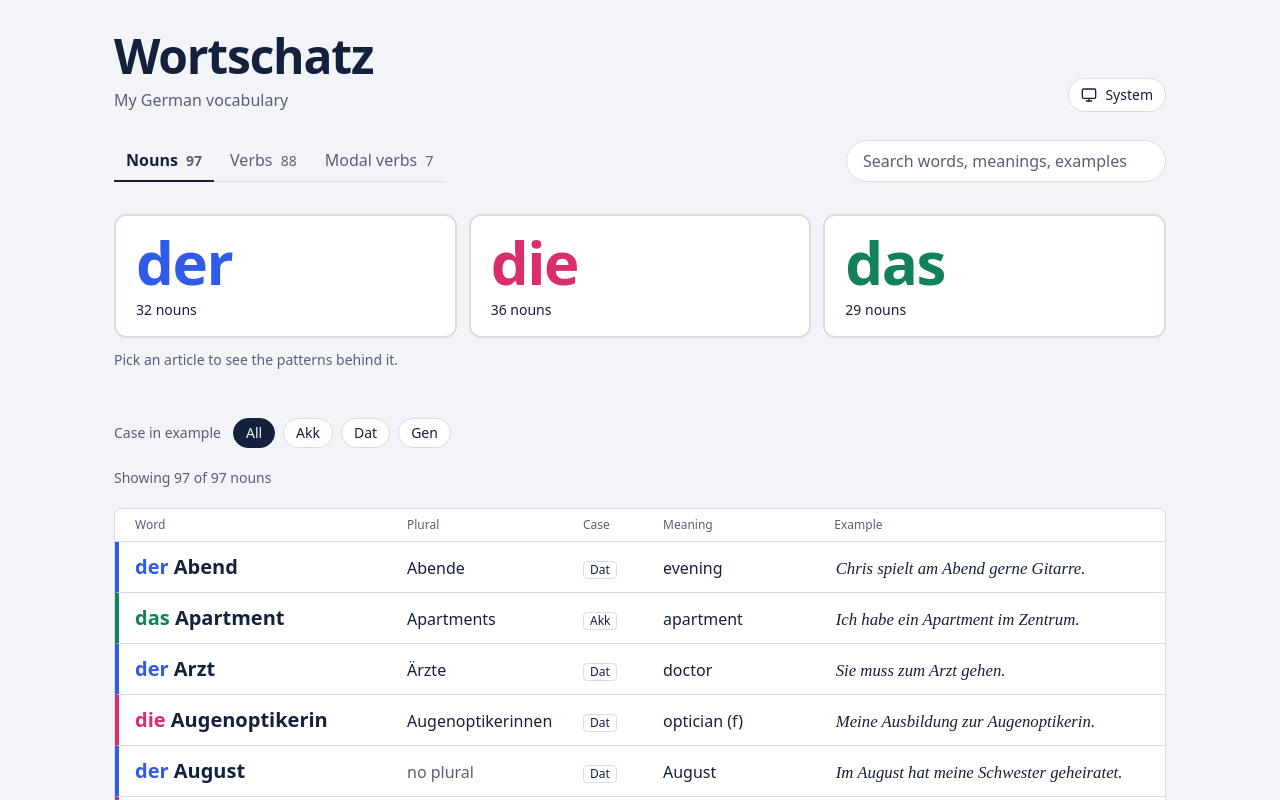
Scenario: VocabPage › filters nouns by article when a big article button is pressed
Click the button "der 32 nouns" at (184,262), box [114,214,457,338]
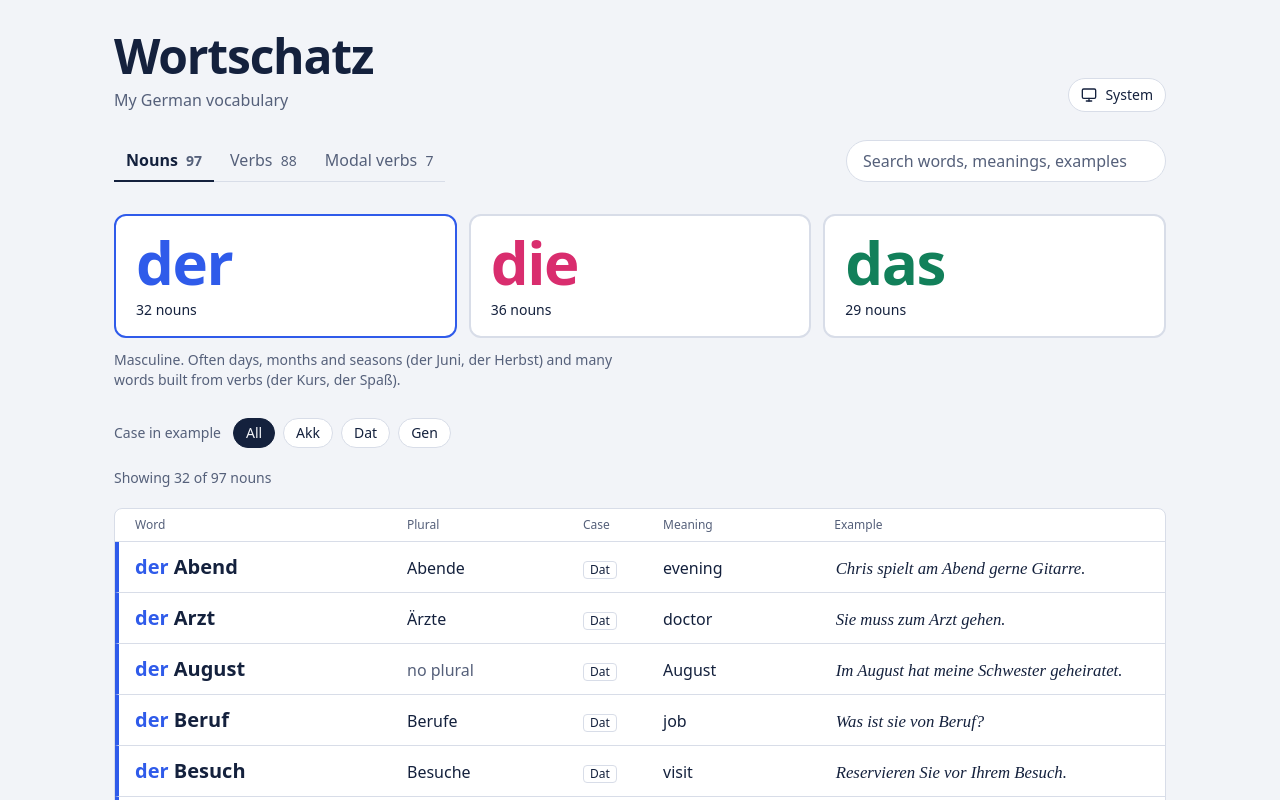
Expected: the text "Showing 32 of 97 nouns" is shown, [114,468,271,487]
Expected: the text "Showing 97 of 97" is gone
Expected: the text "Masculine" is shown, [114,350,612,389]
